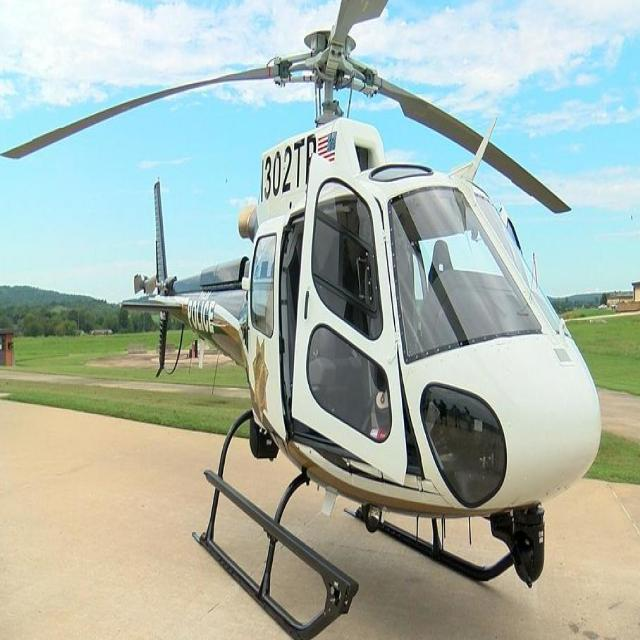helicopter: (113, 1, 612, 640)
